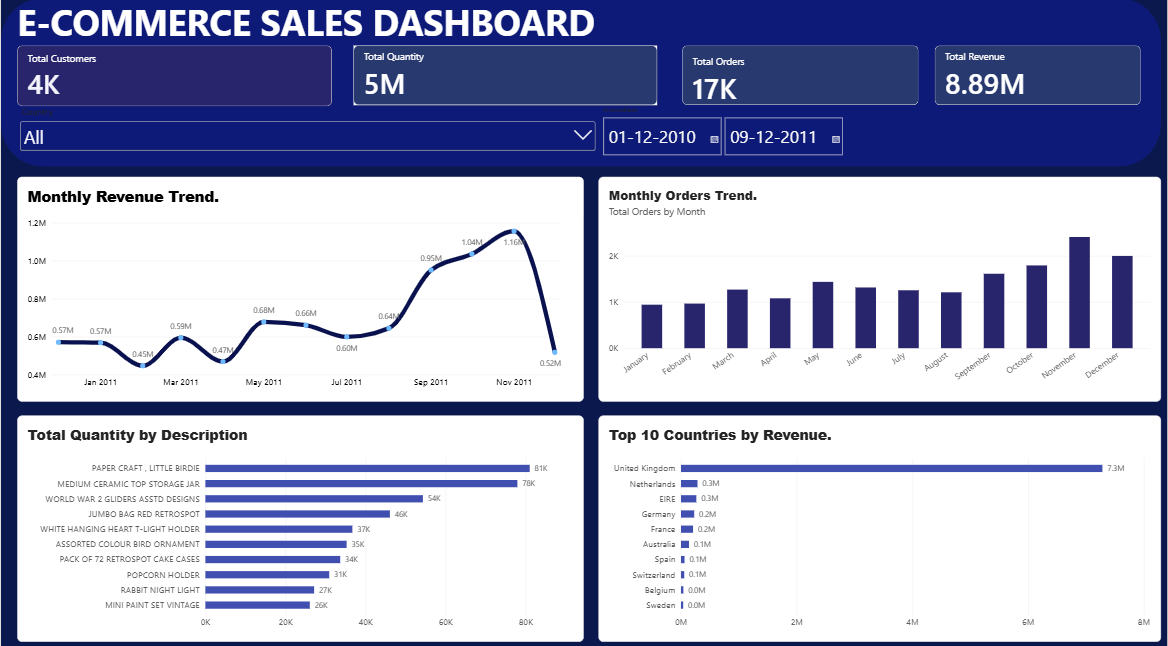

What the dashboard file says about the page in this screenshot:
{"tool":"powerbi","page":{"name":"Page 1","canvas":[1920,1080],"ordinal":0},"visuals":[{"type":"shape","box":[0,0,1910.1,277.9],"z":0},{"type":"cardVisual","fields":{"Data":["cleaned_sales.Total Customers"]},"box":[26.8,78.2,518.7,100.9],"z":1000},{"type":"cardVisual","fields":{"Data":["cleaned_sales.Total Orders"]},"box":[1121.8,78.2,389,98.8],"z":2000},{"type":"cardVisual","fields":{"Data":["cleaned_sales.Total Quantity"]},"box":[580.4,78.2,500.2,98.8],"z":3000},{"type":"cardVisual","fields":{"Data":["cleaned_sales.Total Revenue"]},"box":[1537.6,78.2,339.6,98.8],"z":4000},{"type":"lineChart","title":"Monthly Revenue Trend.","fields":{"Y":["cleaned_sales.Total Revenue"],"Category":["cleaned_sales.InvoiceDate.Variation.Date Hierarchy.Year","cleaned_sales.InvoiceDate.Variation.Date Hierarchy.Month"]},"box":[26.8,294.3,932.4,370.5],"z":5000},{"type":"clusteredColumnChart","title":"Monthly Orders Trend.","fields":{"Category":["cleaned_sales.InvoiceDate.Variation.Date Hierarchy.Year","cleaned_sales.InvoiceDate.Variation.Date Hierarchy.Month"],"Y":["cleaned_sales.Total Orders"]},"box":[983.9,294.3,926.2,370.5],"z":6000},{"type":"slicer","fields":{"Values":["cleaned_sales.Country"]},"box":[26.8,179.1,957.1,80.3],"z":7000},{"type":"slicer","fields":{"Values":["cleaned_sales.InvoiceDate"]},"box":[983.9,177,926.2,82.3],"z":8000},{"type":"textbox","box":[26.8,0,1037.4,78.2],"z":9000},{"type":"clusteredBarChart","fields":{"Y":["cleaned_sales.Total Quantity"],"Category":["cleaned_sales.Description"]},"box":[26.8,687.5,932.4,372.6],"z":9001},{"type":"clusteredBarChart","title":"Top 10 Countries by Revenue.","fields":{"Category":["cleaned_sales.Country"],"Y":["cleaned_sales.Total Revenue"]},"box":[983.9,687.5,926.2,372.6],"z":9002}]}

Visuals, with their boxes in screenshot pixels (x1, y1, x2, y2), scaled from the page's 1920x1080 canvas onto the 1168x646 screenshot:
shape: (0, 0, 1162, 166)
cardVisual - cleaned_sales.Total Customers: (16, 47, 332, 107)
cardVisual - cleaned_sales.Total Orders: (682, 47, 919, 106)
cardVisual - cleaned_sales.Total Quantity: (353, 47, 657, 106)
cardVisual - cleaned_sales.Total Revenue: (935, 47, 1142, 106)
"Monthly Revenue Trend." lineChart: (16, 176, 584, 398)
"Monthly Orders Trend." clusteredColumnChart: (599, 176, 1162, 398)
slicer - cleaned_sales.Country: (16, 107, 599, 155)
slicer - cleaned_sales.InvoiceDate: (599, 106, 1162, 155)
textbox: (16, 0, 647, 47)
clusteredBarChart - cleaned_sales.Total Quantity x cleaned_sales.Description: (16, 411, 584, 634)
"Top 10 Countries by Revenue." clusteredBarChart: (599, 411, 1162, 634)
